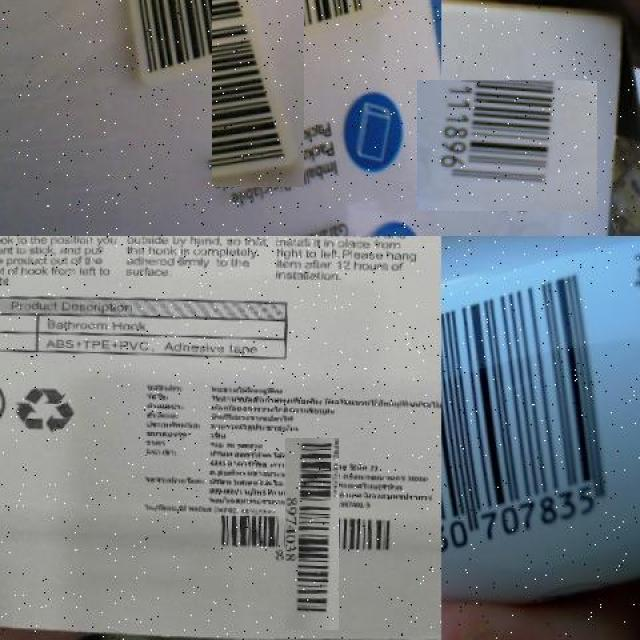Barcode: (441, 251, 635, 609), (164, 0, 352, 139), (429, 67, 584, 224), (250, 473, 373, 596)
